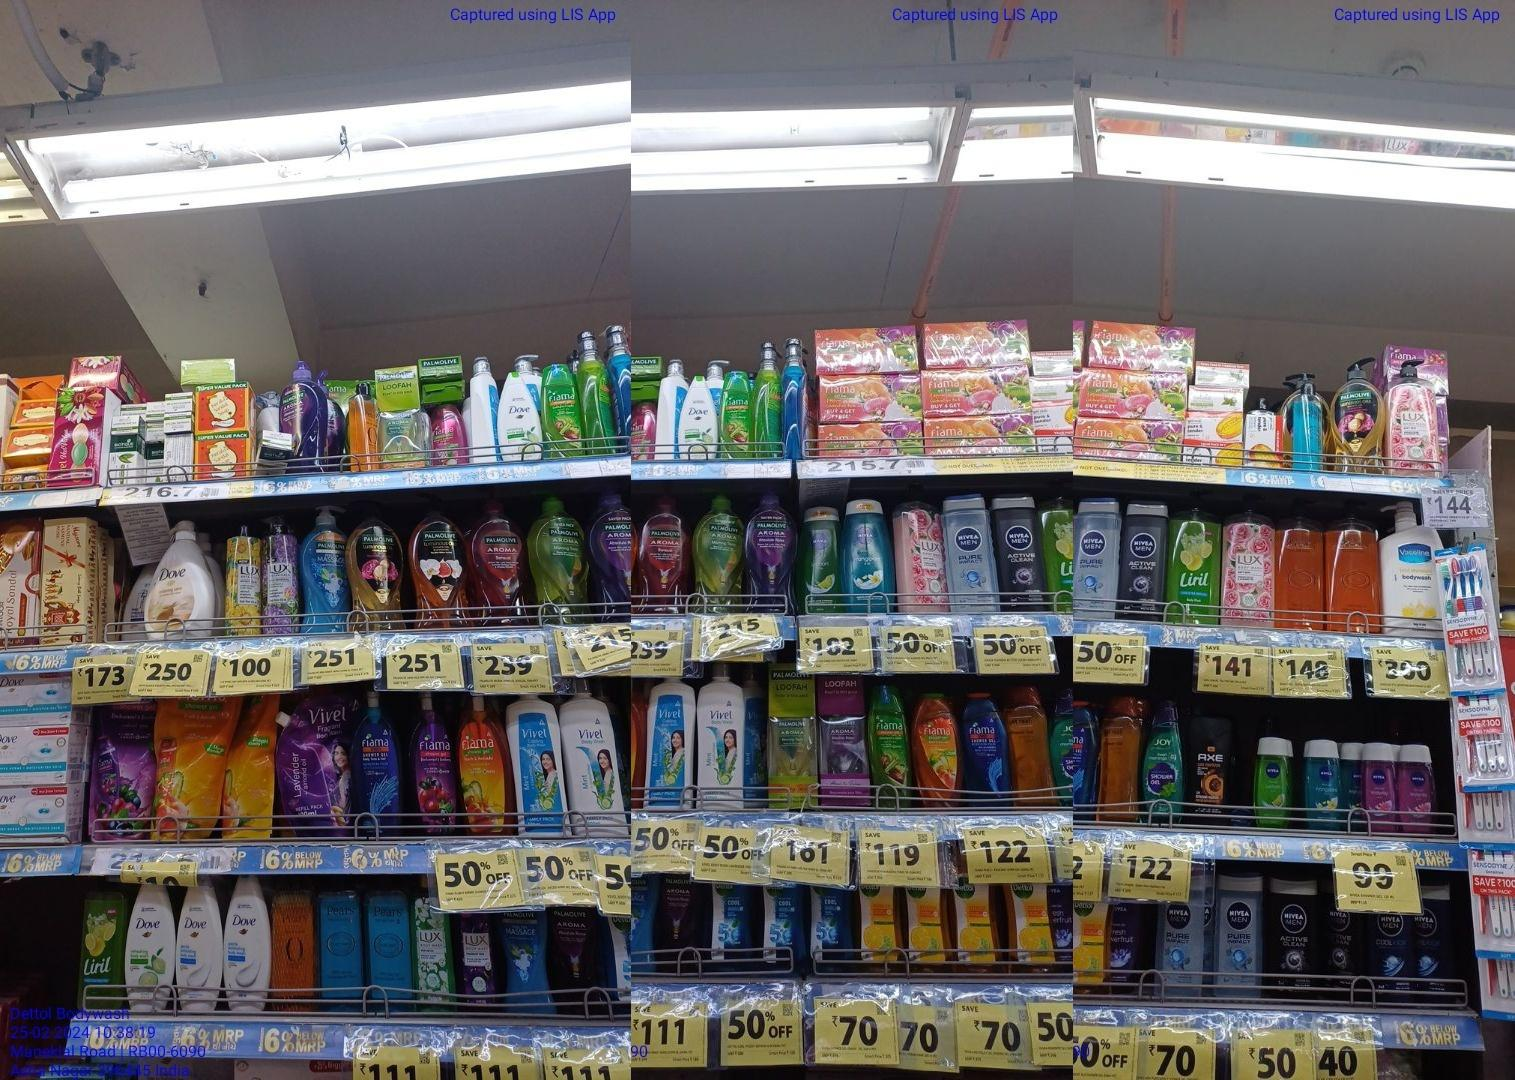Dettol_Bodywash_Cool: (712, 880, 755, 970), (811, 885, 855, 968), (763, 882, 804, 970)
Dettol_Bodywash_Refresh: (954, 874, 998, 968), (1010, 885, 1056, 963), (905, 887, 948, 965), (860, 884, 899, 964)
Dove_Gentle_Exfoliating_Body_Wash_250ML: (221, 875, 270, 1012), (178, 874, 221, 1012)
Dove_Refreshing_Body_Wash_250ML: (126, 880, 174, 1009), (498, 371, 539, 462)
Fiama_Shower_Gel_Lemongrass_and_Jojoba_250ML: (544, 366, 581, 456), (721, 371, 754, 456)
Liril_Lime_and_Tea_Tree_Oil_Body_Wash_250ML: (82, 879, 123, 1008)
Lux_Black_Orchid_Scent_and_Juniper_Oil_Body_Wash_245ML: (456, 909, 498, 1009)
Lux_Body_Wash_Skin_Detox_Freesia_Scent_and_Alove_Vera_245ML: (414, 877, 450, 1010)
Palmolive_Aroma_Moments_Feel_The_Massage_Shower_Gel_250ML: (500, 912, 546, 1013)
Palmolive_Aroma_Relax_250ML: (551, 907, 602, 1016), (659, 873, 700, 972)
Pears_Pure_Glycerin_and_Mint_Extracts_Body_Wash_250ML: (316, 877, 364, 1010), (366, 877, 410, 1011)
